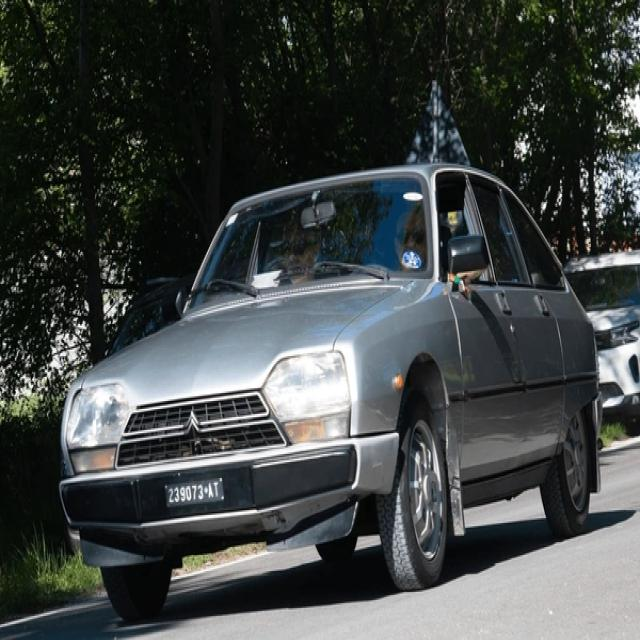citroen: (185, 414, 201, 431)
